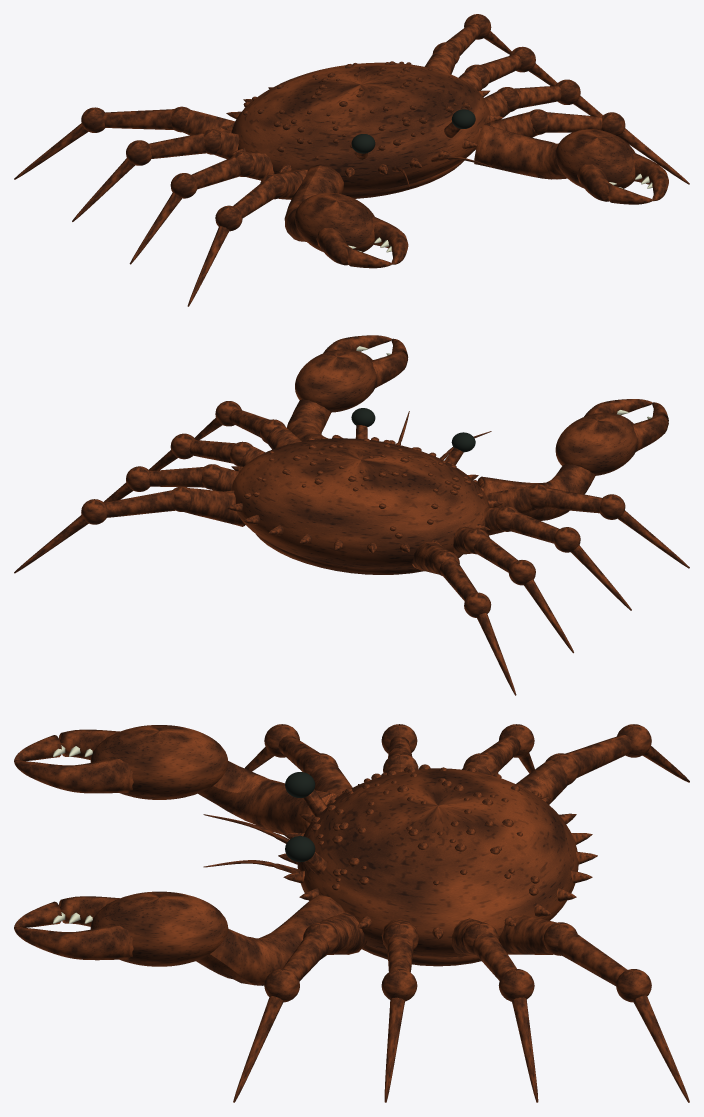
The model's file is crab.glb.
3 views of the same model, one above another, from view 1: azimuth 30°, elevation 25°; view 2: azimuth 150°, elevation 25°; view 3: azimuth 270°, elevation 25° (orthographic). The views are drawn at different scales.
Visible parts, largest first — view 1: crab_anatomy, WalkLeg_-1_3, WalkLeg_1_0, WalkLeg_-1_2, WalkLeg_-1_1, WalkLeg_-1_0, WalkLeg_1_1, WalkLeg_1_3, WalkLeg_1_2; view 2: crab_anatomy, WalkLeg_1_3, WalkLeg_-1_0, WalkLeg_-1_3, WalkLeg_-1_1, WalkLeg_-1_2, WalkLeg_1_2, WalkLeg_1_1, WalkLeg_1_0; view 3: crab_anatomy, WalkLeg_1_3, WalkLeg_1_0, WalkLeg_-1_3, WalkLeg_1_2, WalkLeg_1_1, WalkLeg_-1_0, WalkLeg_-1_2, WalkLeg_-1_1.
Boxes of the visible parts, x1,y1,x2,y2 form: crab_anatomy: [221, 61, 668, 268]; WalkLeg_-1_3: [14, 106, 234, 179]; WalkLeg_1_0: [486, 109, 689, 184]; WalkLeg_-1_2: [72, 129, 239, 221]; WalkLeg_-1_1: [129, 151, 274, 264]; WalkLeg_-1_0: [187, 169, 307, 306]; WalkLeg_1_1: [484, 79, 602, 119]; WalkLeg_1_3: [424, 14, 511, 74]; WalkLeg_1_2: [458, 46, 557, 90]; crab_anatomy: [224, 335, 668, 574]; WalkLeg_1_3: [14, 486, 245, 573]; WalkLeg_-1_0: [485, 484, 689, 568]; WalkLeg_-1_3: [412, 541, 516, 695]; WalkLeg_-1_1: [484, 506, 631, 610]; WalkLeg_-1_2: [453, 526, 573, 653]; WalkLeg_1_2: [104, 464, 238, 502]; WalkLeg_1_1: [149, 433, 265, 470]; WalkLeg_1_0: [195, 401, 301, 449]; crab_anatomy: [14, 725, 597, 985]; WalkLeg_1_3: [499, 914, 689, 1102]; WalkLeg_1_0: [233, 912, 366, 1102]; WalkLeg_-1_3: [516, 724, 689, 804]; WalkLeg_1_2: [451, 918, 538, 1102]; WalkLeg_1_1: [381, 918, 418, 1102]; WalkLeg_-1_0: [244, 724, 352, 794]; WalkLeg_-1_2: [462, 724, 534, 775]; WalkLeg_-1_1: [381, 724, 418, 772].
Bounding box in the file's own units: 5.51 × 1.11 × 4.9.
Materials: 3 (1 with a texture image).
